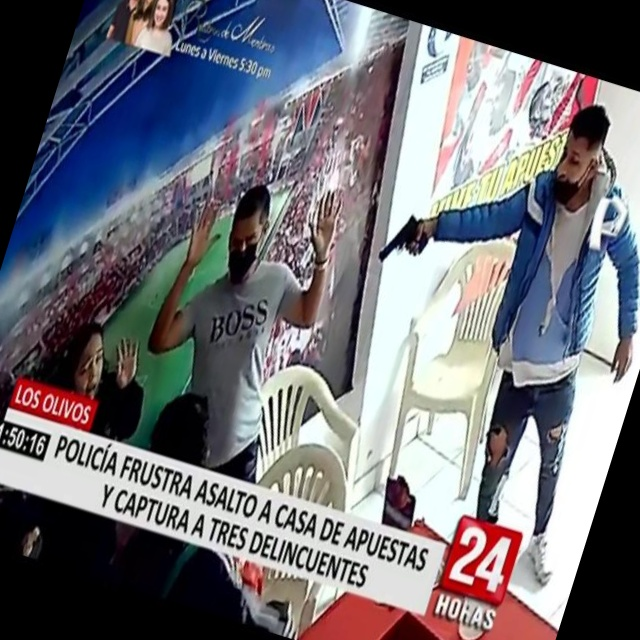gun: (368, 198, 437, 290)
